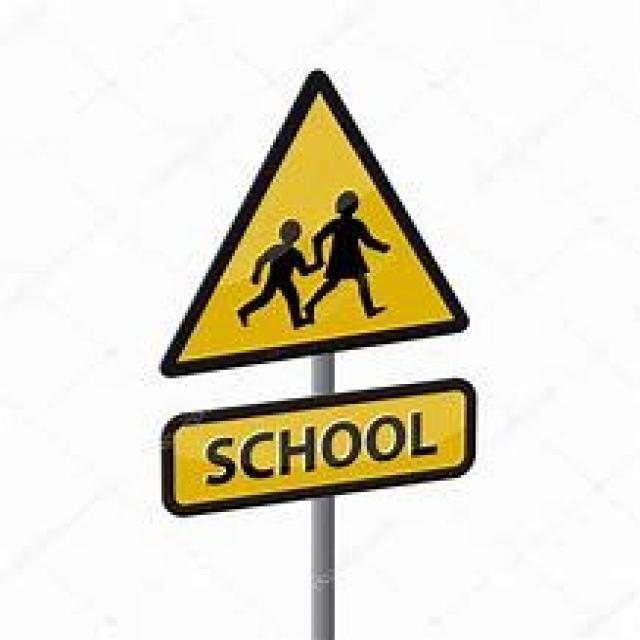SCHOOL_AHEAD: (156, 65, 467, 378)
